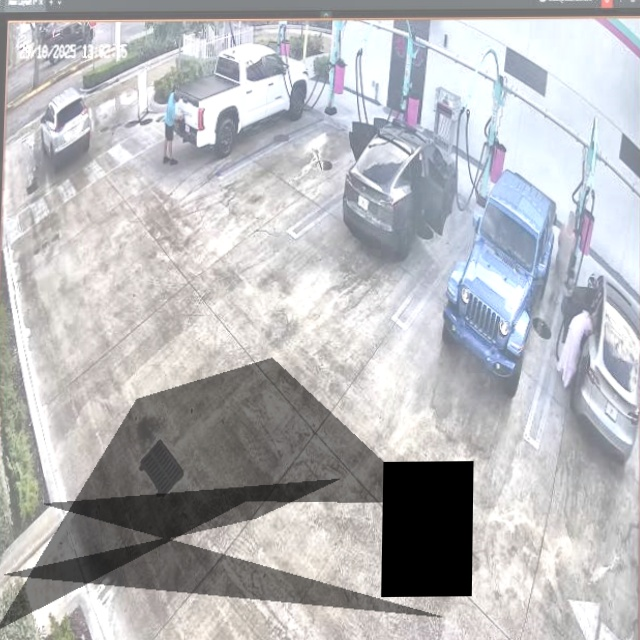Car: (444, 173, 555, 390), (345, 111, 459, 255)
